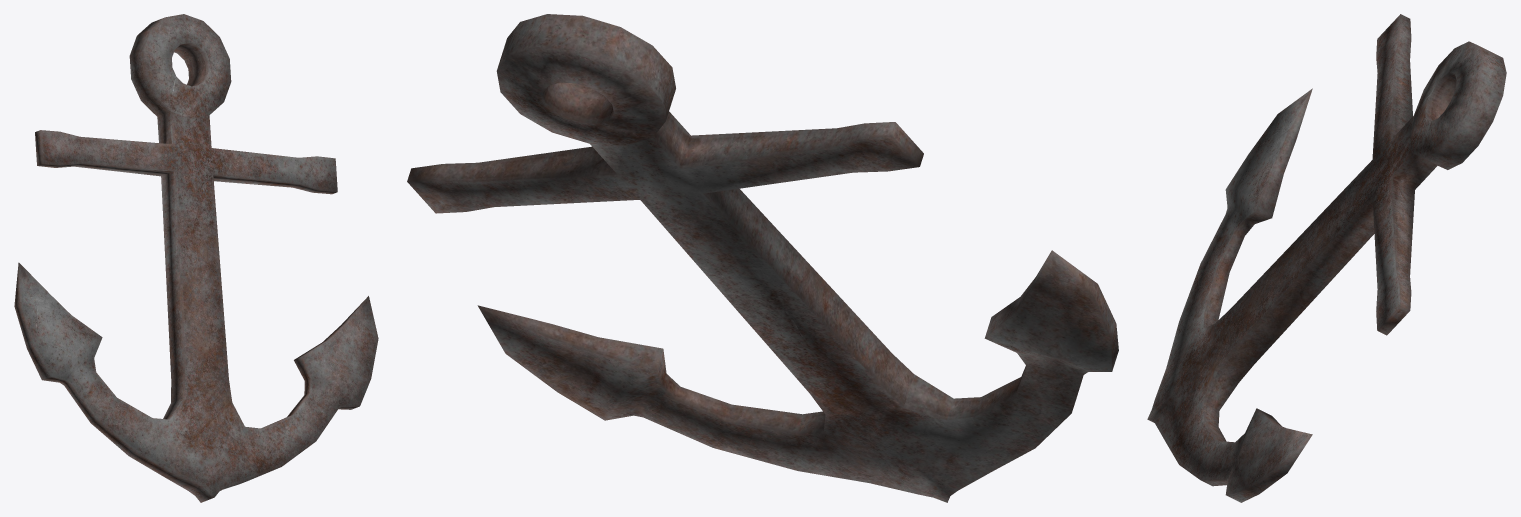
Rendered from anchor.glb.
The picture shows the model from 3 angles, left to right: view 1: azimuth 30°, elevation 25°; view 2: azimuth 150°, elevation 25°; view 3: azimuth 270°, elevation 25°; orthographic projection. The views are drawn at different scales.
Visible parts, largest first — view 1: Plane_0; view 2: Plane_0; view 3: Plane_0.
Part boxes in pixels (left/top/right/bottom): Plane_0: left=14, top=14, right=378, bottom=502; Plane_0: left=407, top=14, right=1118, bottom=502; Plane_0: left=1147, top=14, right=1506, bottom=502.
Bounding box in the file's own units: 4.17 × 3.98 × 2.95.
Materials: 1 (1 with a texture image).
